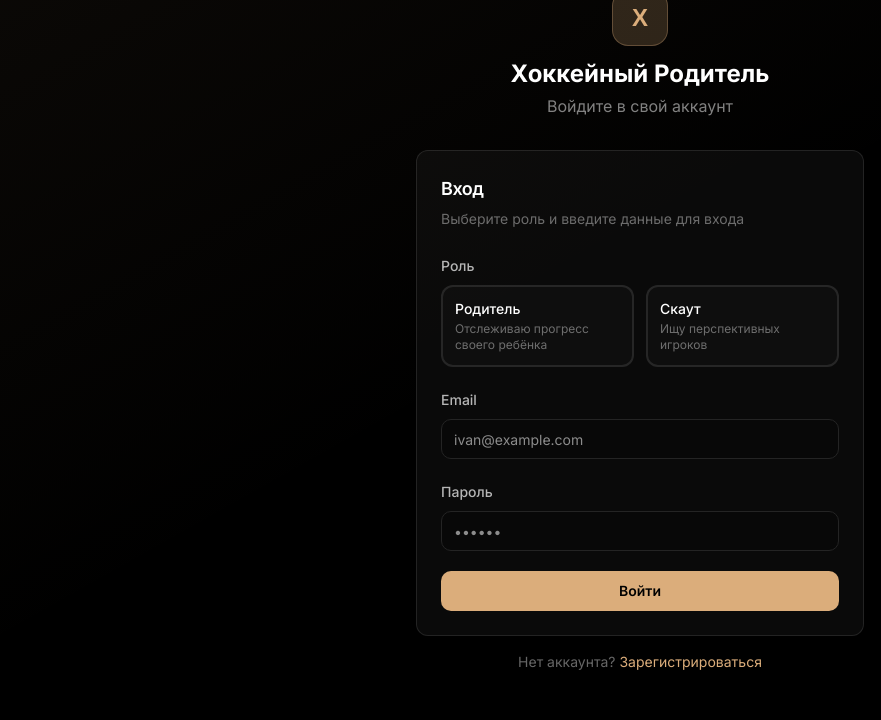
Test: LoginPage › toggles to registration mode
(page scrolled)
Click the button "Зарегистрироваться" at (691, 662), box x1=619 y1=652 x2=762 y2=672
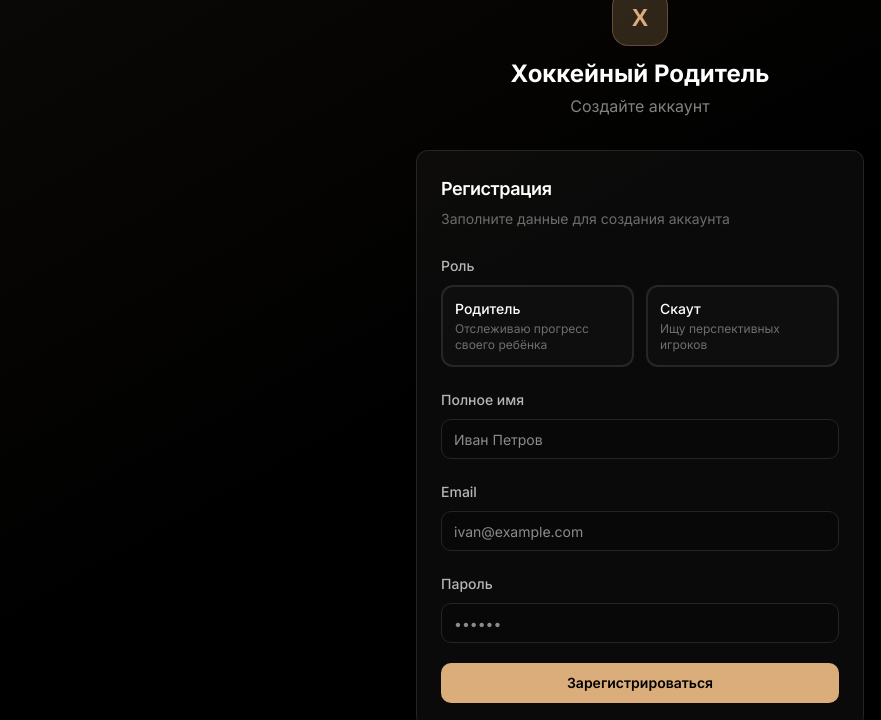
Result: the heading "Регистрация" is shown at x1=441 y1=178 x2=552 y2=199
Result: the field labelled "Полное имя" is shown at x1=441 y1=419 x2=839 y2=459
